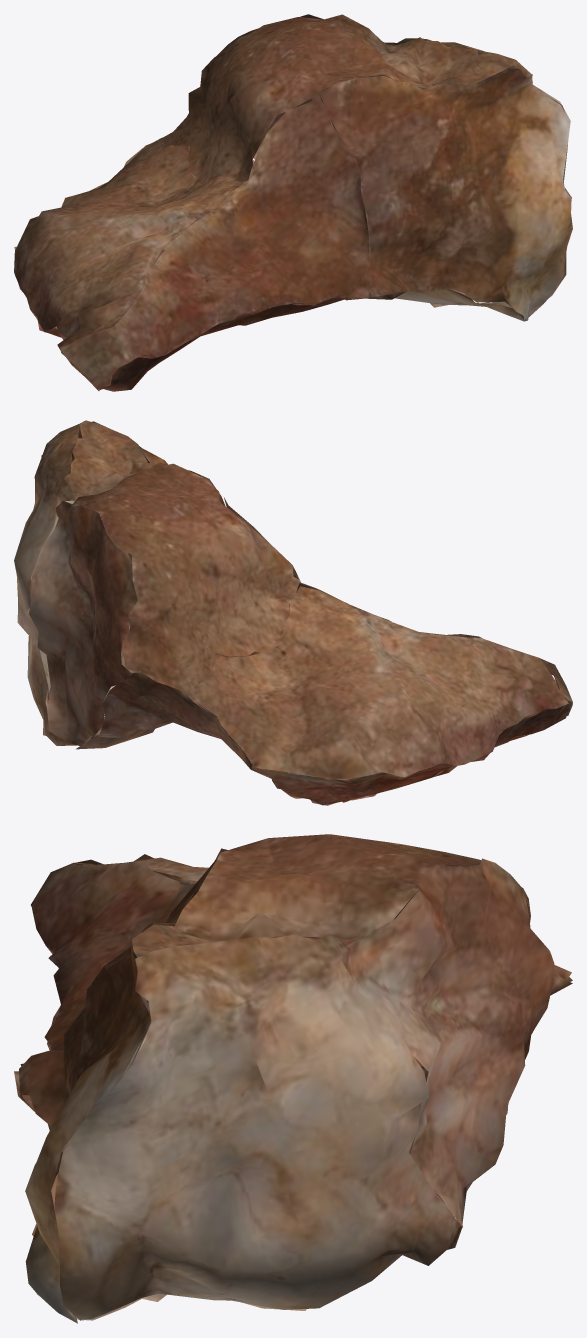
The model's file is stones.glb.
3 renders of one model, top to bottom at view 1: azimuth 30°, elevation 25°; view 2: azimuth 150°, elevation 25°; view 3: azimuth 270°, elevation 25°, orthographic. The views are drawn at different scales.
Parts seen in each view (by area): view 1: stone_01; view 2: stone_01; view 3: stone_01.
Boxes of the visible parts, x1,y1,x2,y2 form: stone_01: (14,14,572,391); stone_01: (14,420,572,805); stone_01: (14,834,572,1323).
Bounding box in the file's own units: 0.1468 × 0.0717 × 0.0895.
Materials: 1 (1 with a texture image).
